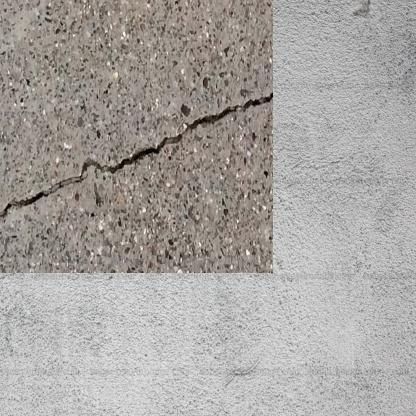Cracks: (0, 122, 171, 209), (169, 84, 252, 123)
